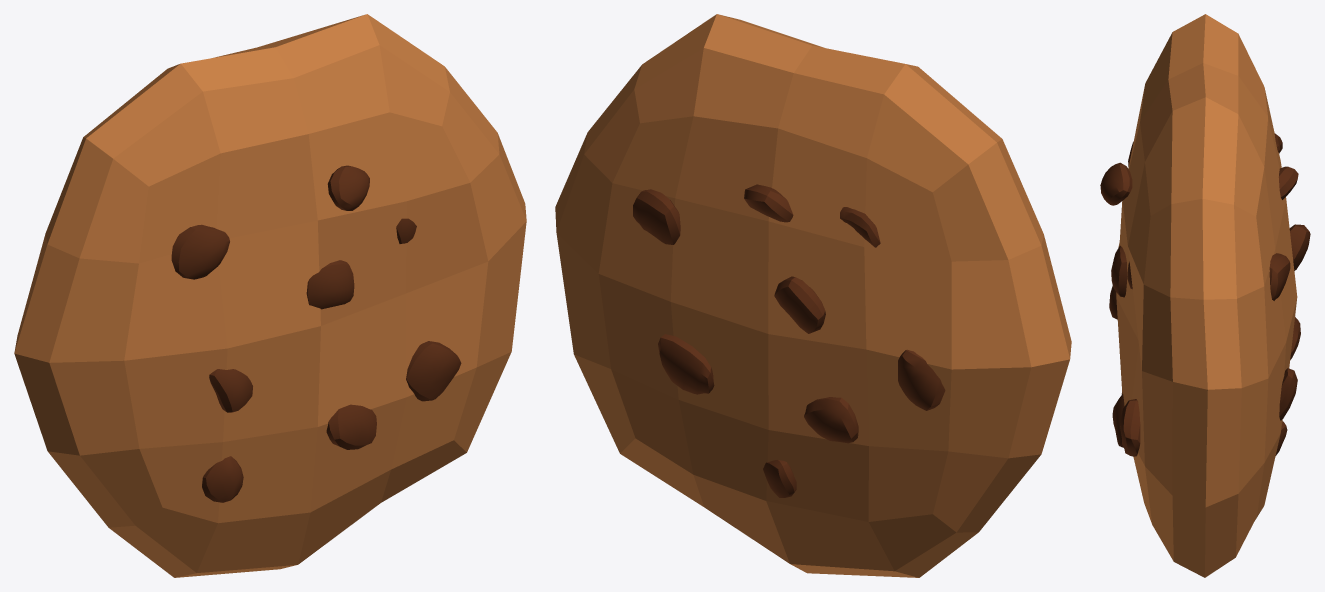
The model's file is cookie.glb.
3 views of the same model, side by side, from view 1: azimuth 30°, elevation 25°; view 2: azimuth 150°, elevation 25°; view 3: azimuth 270°, elevation 25° (orthographic). The views are drawn at different scales.
Visible parts, largest first — view 1: Cube, Cube.015; view 2: Cube, Cube.015; view 3: Cube, Cube.015.
Part boxes in pixels (box(x1,y1,x2,y2)): Cube: box(14, 14, 526, 577); Cube.015: box(171, 165, 461, 502); Cube: box(555, 14, 1071, 577); Cube.015: box(633, 184, 945, 497); Cube: box(1116, 14, 1297, 577); Cube.015: box(1100, 133, 1310, 456).
Bounding box in the file's own units: 1.76 × 1.75 × 0.6562.
